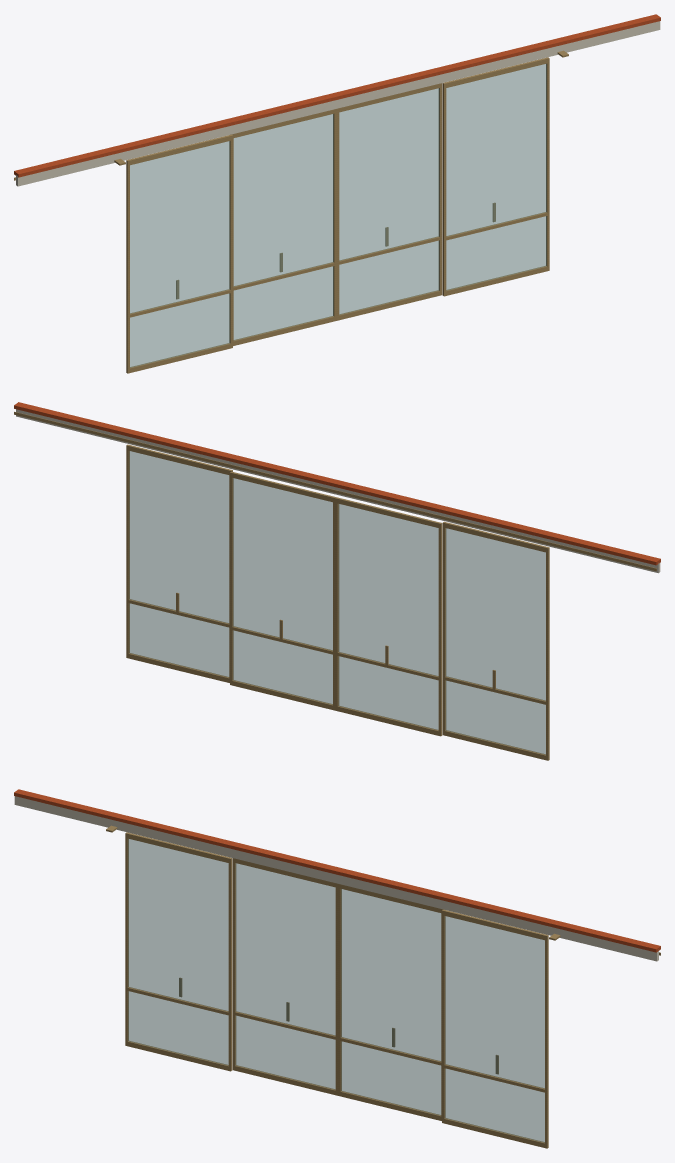
The model's file is large_foyer_8m_r001.glb.
3 renders of one model, top to bottom at view 1: azimuth 30°, elevation 25°; view 2: azimuth 150°, elevation 25°; view 3: azimuth 330°, elevation 25°, orthographic.
Parts seen in each view (by area): view 1: Panel_R0_glass, Panel_R1_glass, Panel_L1_glass, Panel_L0_glass, track_back, track_cap, Panel_R0_stile_left, Panel_R1_stile_right, Panel_L0_stile_left, Panel_R1_stile_left, Panel_R0_stile_right, Panel_L0_stile_right (+7 smaller); view 2: Panel_L1_glass, Panel_L0_glass, Panel_R0_glass, Panel_R1_glass, track_cap, track_back, track_brass, Panel_L1_stile_left, Panel_L1_stile_right, Panel_L0_stile_right, Panel_L0_stile_left, Panel_R0_stile_right (+10 smaller); view 3: Panel_L0_glass, Panel_L1_glass, Panel_R1_glass, Panel_R0_glass, track_back, track_cap, Panel_L0_stile_right, Panel_L1_stile_left, Panel_R0_stile_right, Panel_L1_stile_right, Panel_L0_stile_left, Panel_R0_stile_left (+7 smaller).
Part boxes in pixels (x1,y1,x2,y2): Panel_R0_glass: (446,64,546,290); Panel_R1_glass: (339,88,439,314); Panel_L1_glass: (233,114,333,340); Panel_L0_glass: (130,141,229,367); track_back: (16,21,660,186); track_cap: (14,14,660,177); Panel_R0_stile_left: (442,82,446,296); Panel_R1_stile_right: (438,83,442,295); Panel_L0_stile_left: (126,159,129,373); Panel_R1_stile_left: (336,108,339,320); Panel_R0_stile_right: (546,57,549,271); Panel_L0_stile_right: (229,134,232,348); Panel_L1_glass: (338,504,438,730); Panel_L0_glass: (445,528,545,754); Panel_R0_glass: (129,451,229,677); Panel_R1_glass: (233,478,332,704); track_cap: (14,402,660,565); track_back: (16,409,660,573); track_brass: (14,411,656,571); Panel_L1_stile_left: (438,522,442,736); Panel_L1_stile_right: (335,497,339,711); Panel_L0_stile_right: (442,521,446,735); Panel_L0_stile_left: (546,547,549,760); Panel_R0_stile_right: (126,444,129,658); Panel_L0_glass: (128,839,228,1065); Panel_L1_glass: (235,863,335,1089); Panel_R1_glass: (341,889,441,1115); Panel_R0_glass: (445,916,544,1142); track_back: (14,796,658,961); track_cap: (14,789,660,952); Panel_L0_stile_right: (228,857,232,1071); Panel_L1_stile_left: (232,858,236,1070); Panel_R0_stile_right: (545,934,548,1148); Panel_L1_stile_right: (335,883,338,1095); Panel_L0_stile_left: (125,832,128,1046); Panel_R0_stile_left: (442,909,445,1123).
Bounding box in the file's own units: 12.18 × 4.11 × 0.345.
4 materials, 3 textured.
